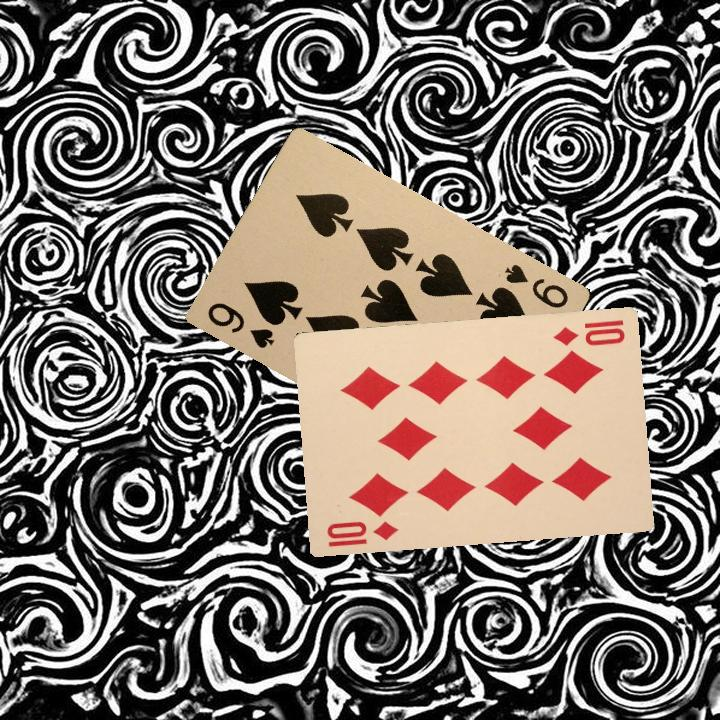10d: (323, 516, 401, 549), (549, 316, 628, 348)
9s: (203, 298, 277, 352), (500, 259, 572, 311)
